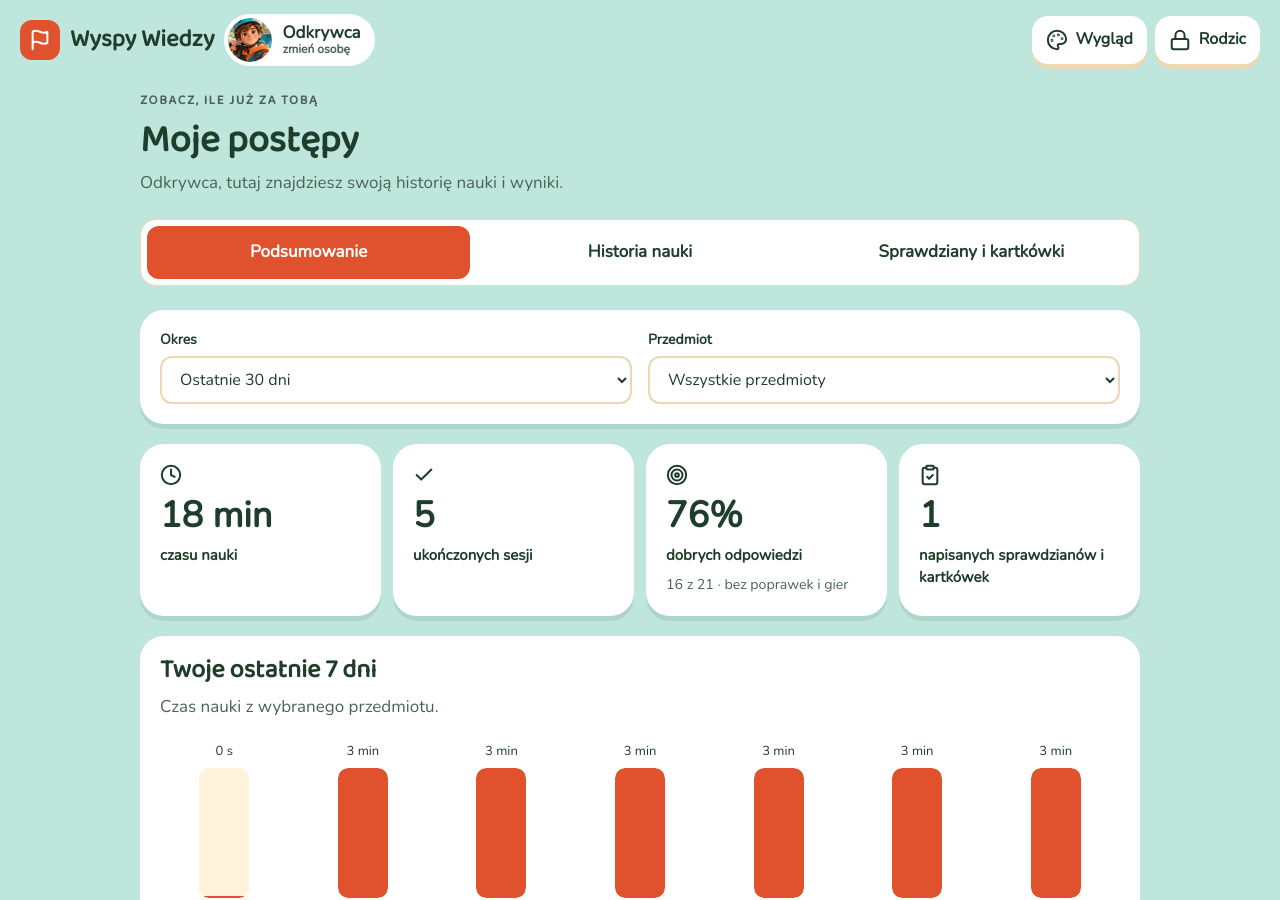
historia i wejście rodzica › historia pokazuje oceny, a szczegóły przerwanego sprawdzianu nie nadają oceny
Click the tab "Sprawdziany i kartkówki" at (971, 252), box [810,226,1133,279]
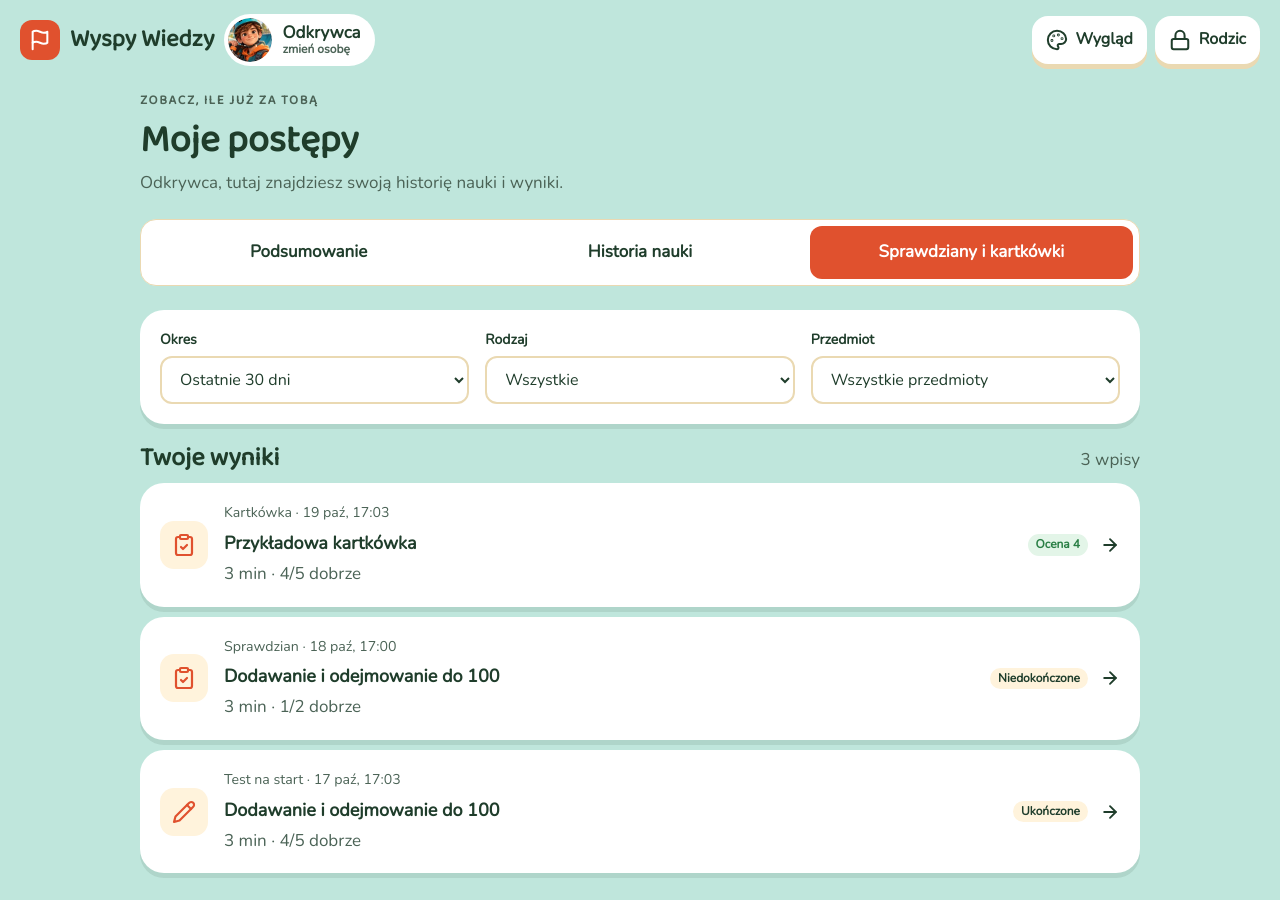
expect the button with class "history-entry" that starts with "Sprawdzian" is shown: met
expect the text "Ocena 4" is shown: met, box [1028,534,1088,556]
Click the button with class "history-entry" that starts with "Sprawdzian" at (184, 678), box [140,617,1140,740]
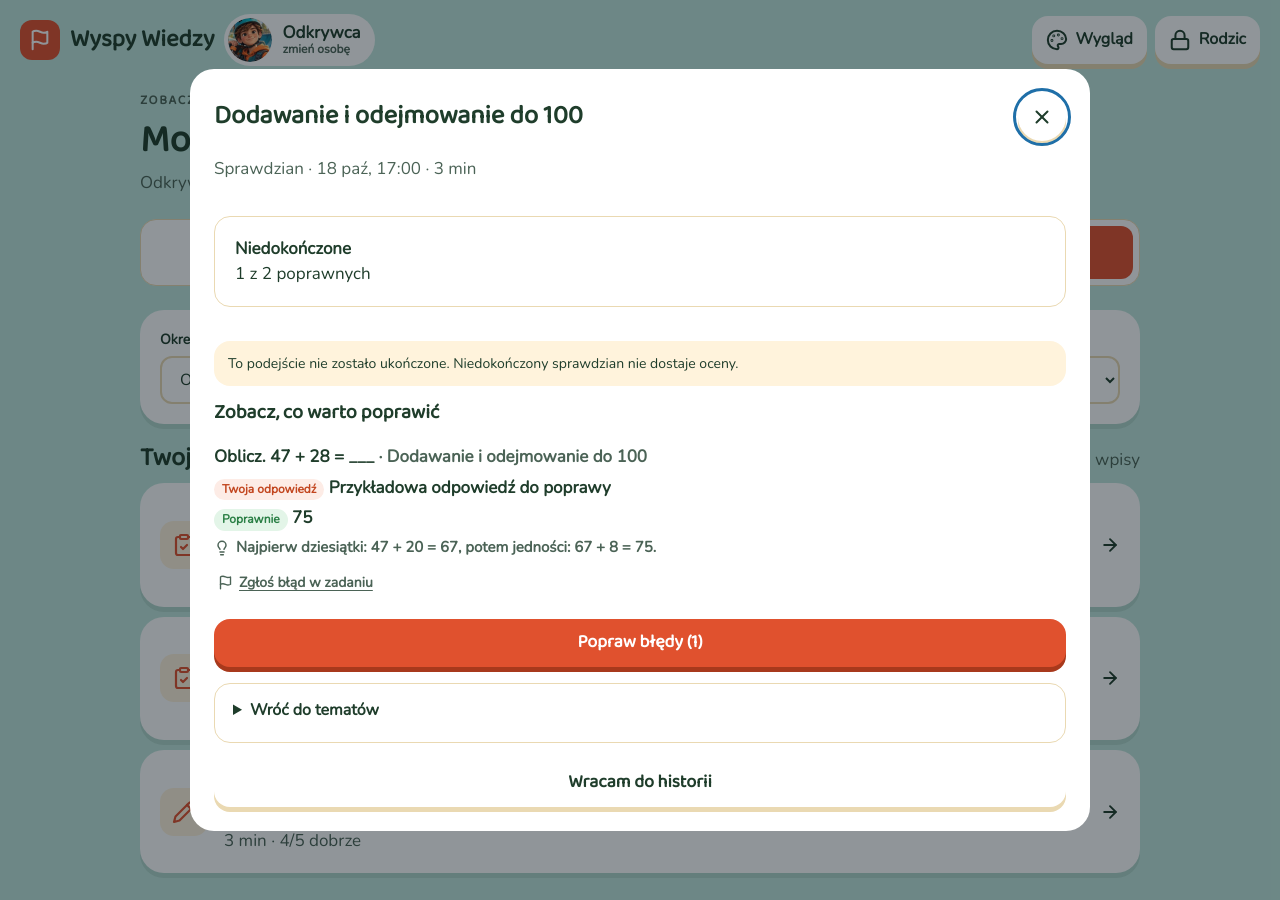
expect the dialog shows "Niedokończony sprawdzian nie dostaje oceny": met, box [228,354,738,373]
expect the dialog shows "Zobacz, co warto poprawić": met, box [214,397,440,428]
